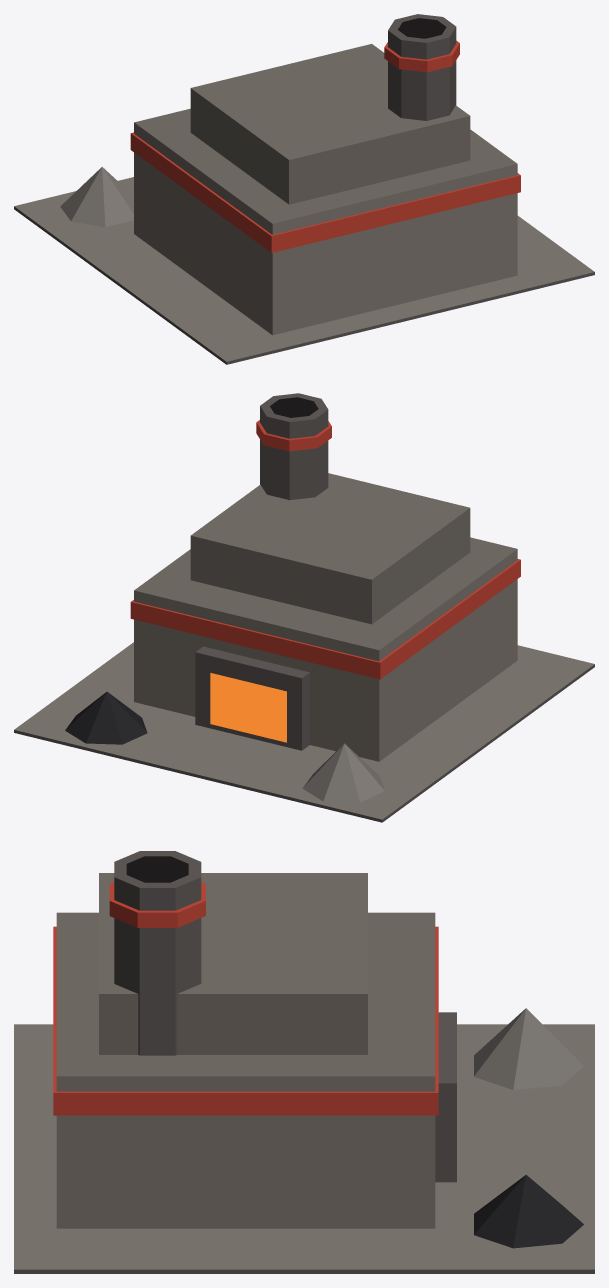
Rendered from smelter_1.glb.
3 renders of one model, top to bottom at view 1: azimuth 30°, elevation 25°; view 2: azimuth 150°, elevation 25°; view 3: azimuth 270°, elevation 25°, orthographic. The views are drawn at different scales.
Parts seen in each view (by area): view 1: smelter_1; view 2: smelter_1; view 3: smelter_1.
Boxes of the visible parts, box(x1,y1,x2,y2) form: smelter_1: box(14, 14, 594, 364); smelter_1: box(14, 393, 594, 822); smelter_1: box(14, 851, 594, 1273).
Size of the model in its own units: 3.8 by 2.34 by 3.8.
